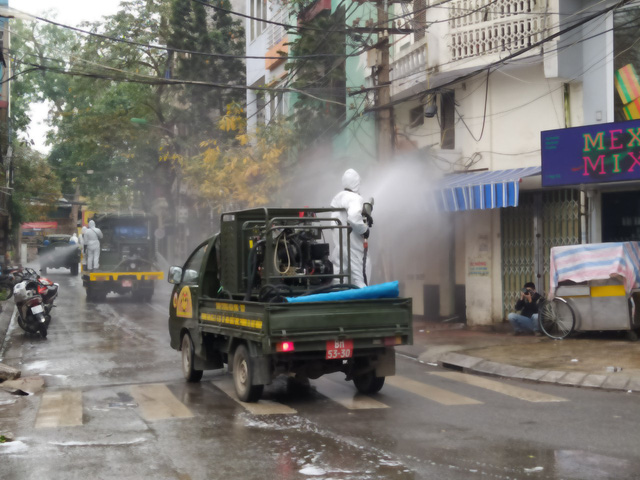plate: (322, 336, 354, 360), (120, 277, 132, 289)
